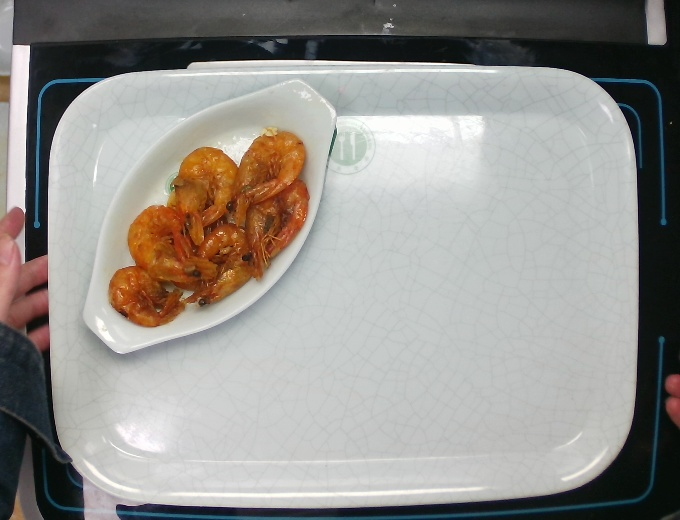JYsf-Yu_Pan: (77, 75, 357, 366)
